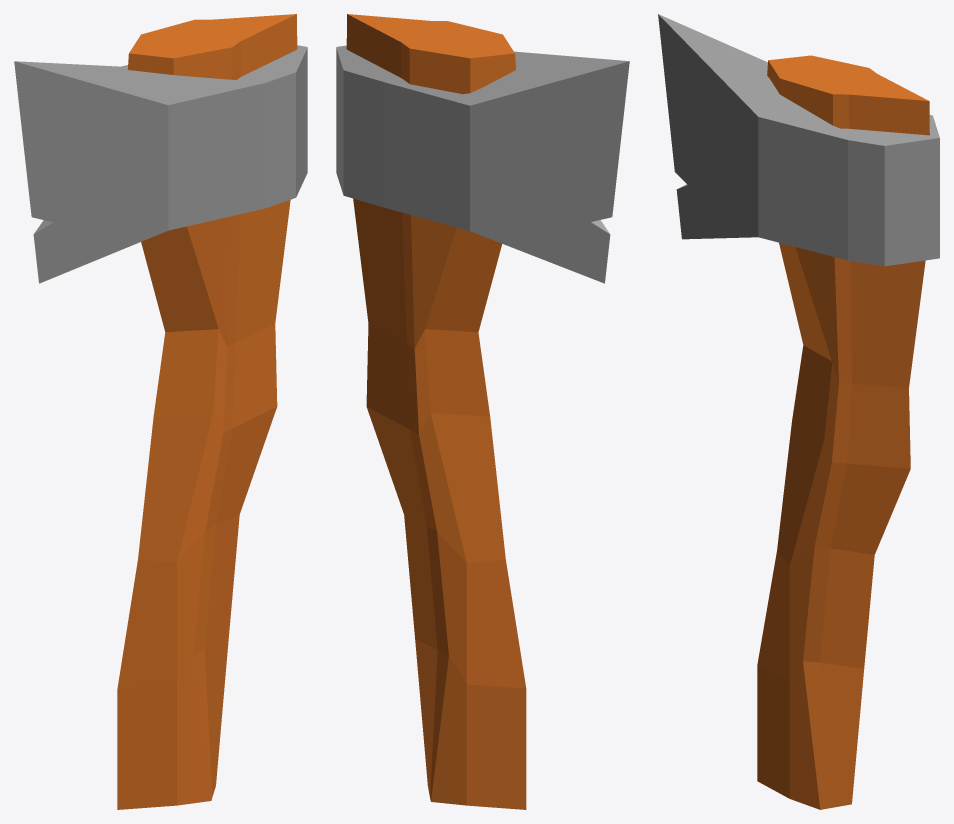
File: Axe.fbx
The picture shows the model from 3 angles, left to right: view 1: azimuth 30°, elevation 25°; view 2: azimuth 150°, elevation 25°; view 3: azimuth 330°, elevation 25°; orthographic projection. The views are drawn at different scales.
Visible parts, largest first — view 1: Cylinder, Cylinder.001; view 2: Cylinder, Cylinder.001; view 3: Cylinder, Cylinder.001.
Part boxes in pixels (<box>): Cylinder: <box>117,14,297,809</box>; Cylinder.001: <box>14,45,307,283</box>; Cylinder: <box>346,14,526,809</box>; Cylinder.001: <box>336,45,629,283</box>; Cylinder: <box>757,55,929,809</box>; Cylinder.001: <box>658,14,939,266</box>.
Bounding box in the file's own units: 0.6667 × 1.68 × 0.2087.
